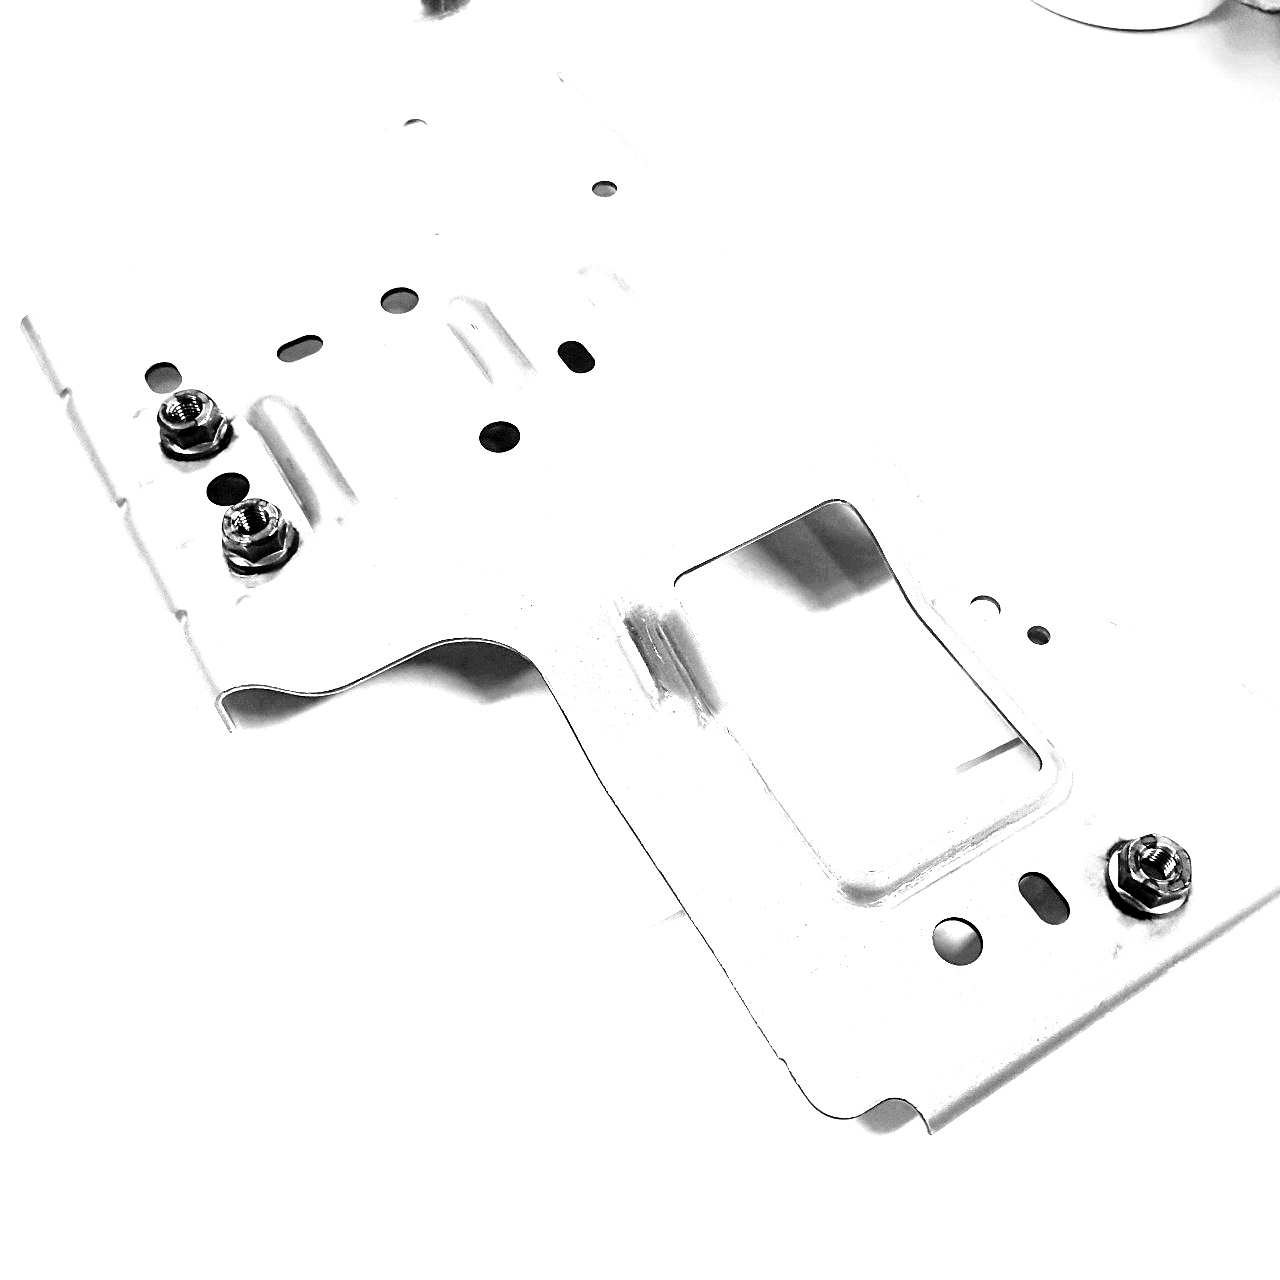dog: (1096, 826, 1198, 926), (152, 384, 240, 467), (216, 496, 304, 578)
